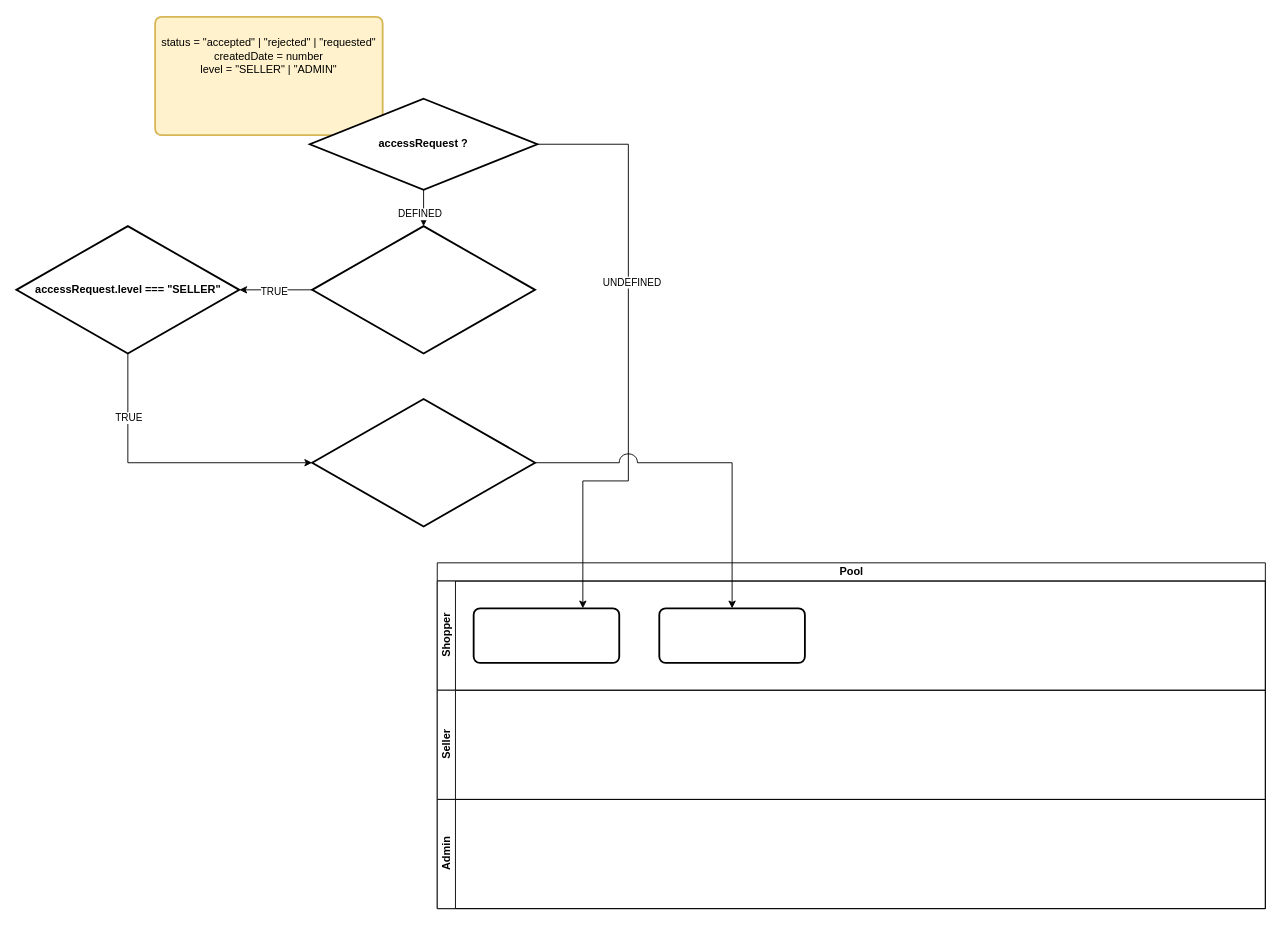
Some shapes in this 1281 by 925 pixel diagram are drawn without their labels. Each missing label, with the centre of its shape:
accessRequest.createdDate < 24 hours: (423,462)
accessRequest.status === "requested": (423,289)
Show message to join seller program: (546,635)
Show thank you message for requesting to join seller program: (731,635)
